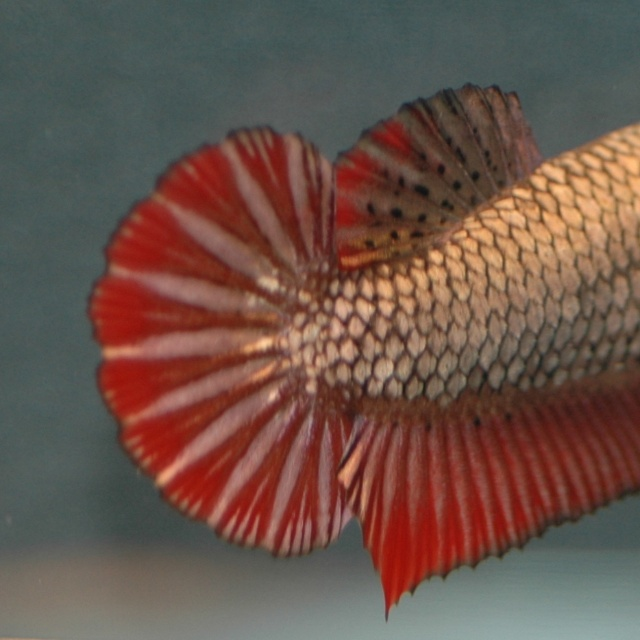Fish: (65, 114, 624, 559)
